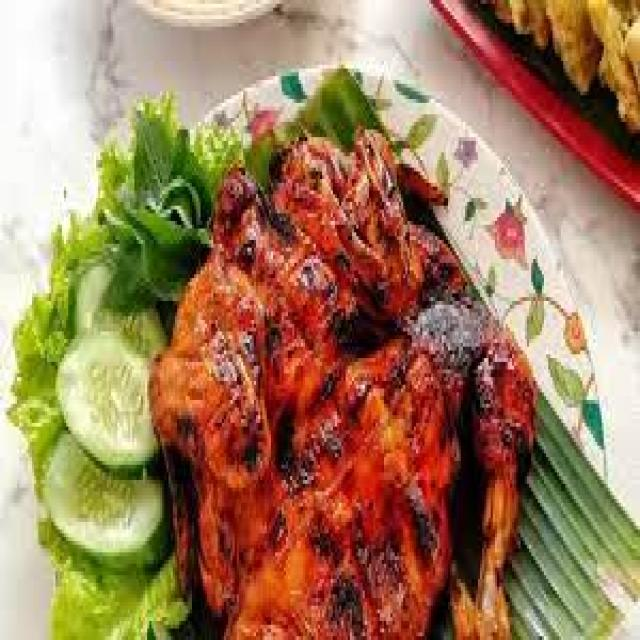Ayam Bakar: (193, 158, 487, 640)
